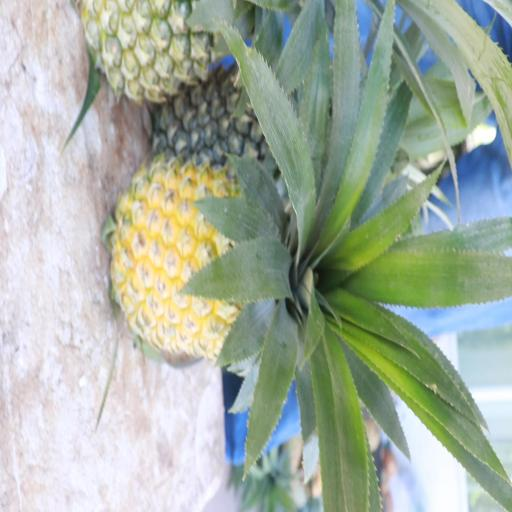Pineapple - v8 v1: (117, 157, 332, 355)
